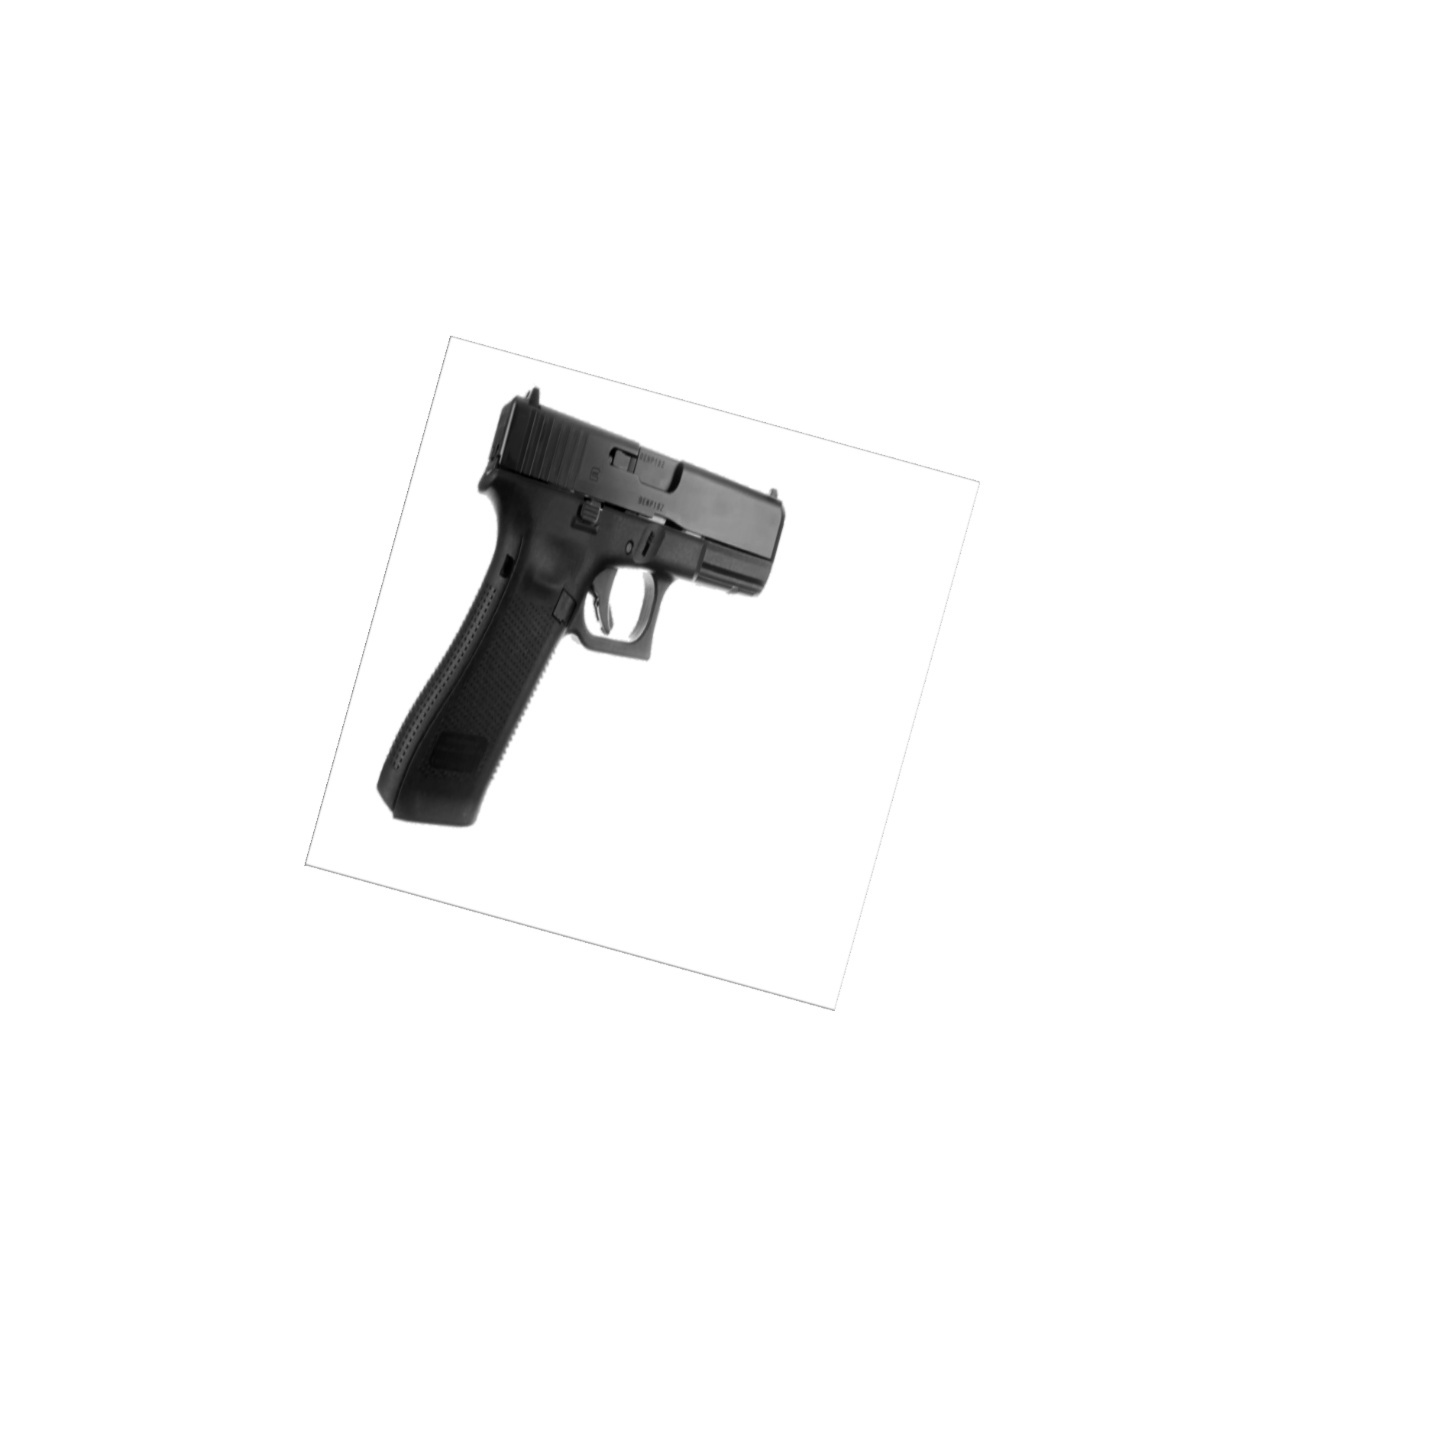gun: (370, 385, 785, 851)
